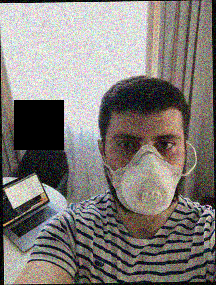with_mask: (108, 124, 185, 215)
